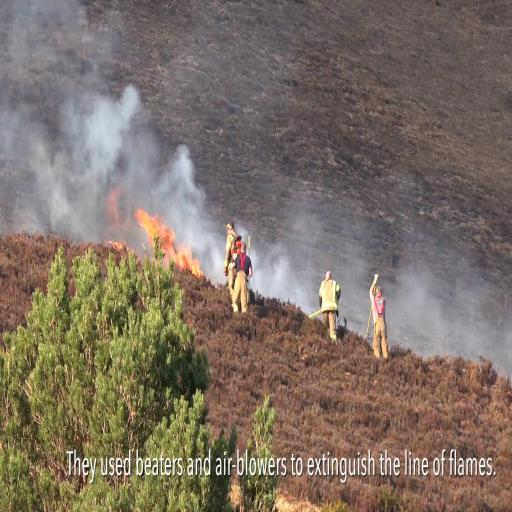fire: (140, 212, 201, 272)
smoke: (56, 44, 148, 197)
